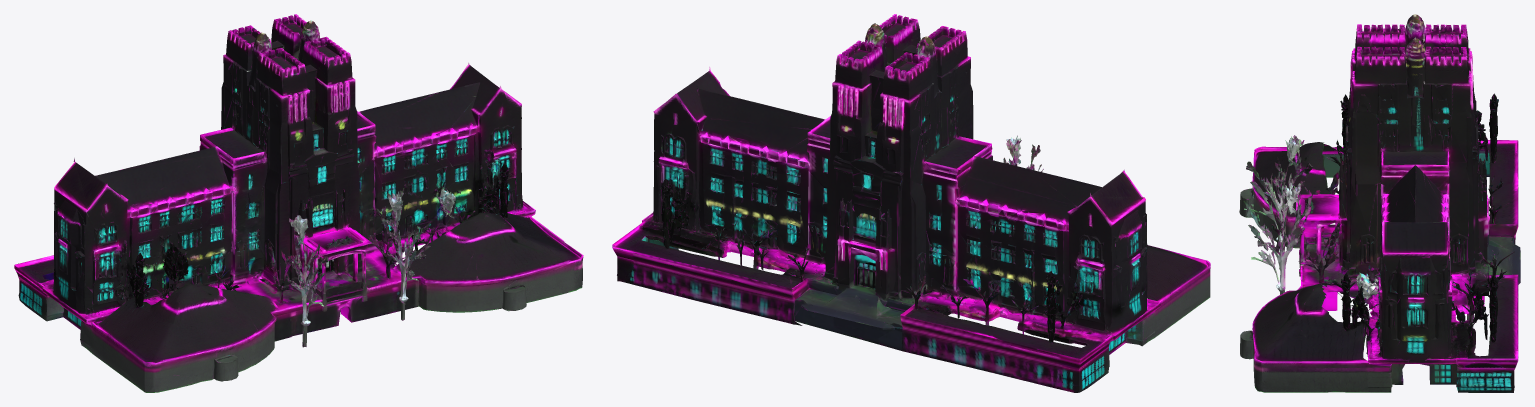
The picture shows the model from 3 angles, left to right: view 1: azimuth 30°, elevation 25°; view 2: azimuth 150°, elevation 25°; view 3: azimuth 270°, elevation 25°; orthographic projection. The views are drawn at different scales.
Parts seen in each view (by area): view 1: Mesh_0; view 2: Mesh_0; view 3: Mesh_0.
Boxes of the visible parts, left/top/right/bottom form: Mesh_0: left=14, top=14, right=583, bottom=392; Mesh_0: left=612, top=14, right=1210, bottom=392; Mesh_0: left=1239, top=14, right=1520, bottom=392.
Size of the model in its own units: 1.9 by 1.05 by 1.02.
Materials: 1 (1 with a texture image).
